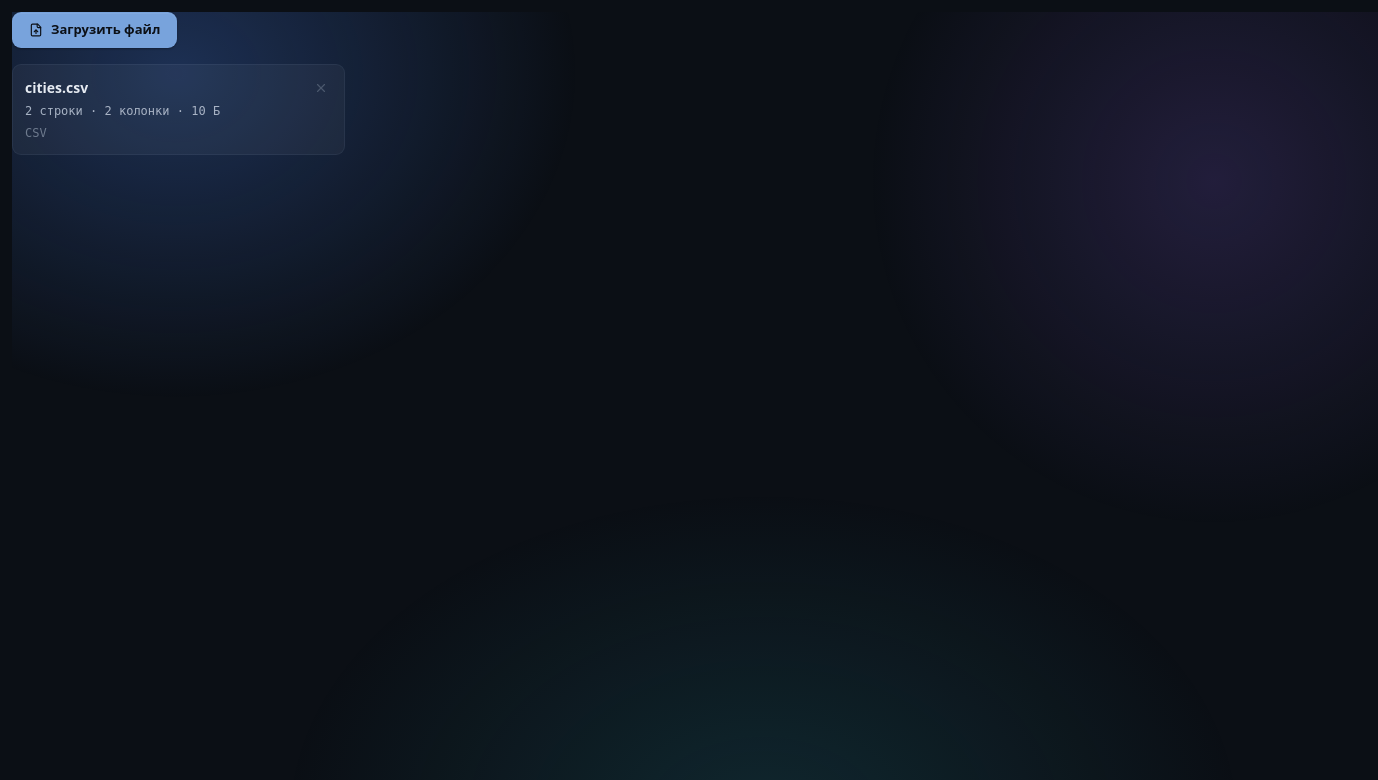
Test: загрузка файлов › крестик удаляет датасет после подтверждения
The image size is (1378, 780).
Click the button named "Удалить cities.csv".
click(320, 88)  # box [306,74,334,102]
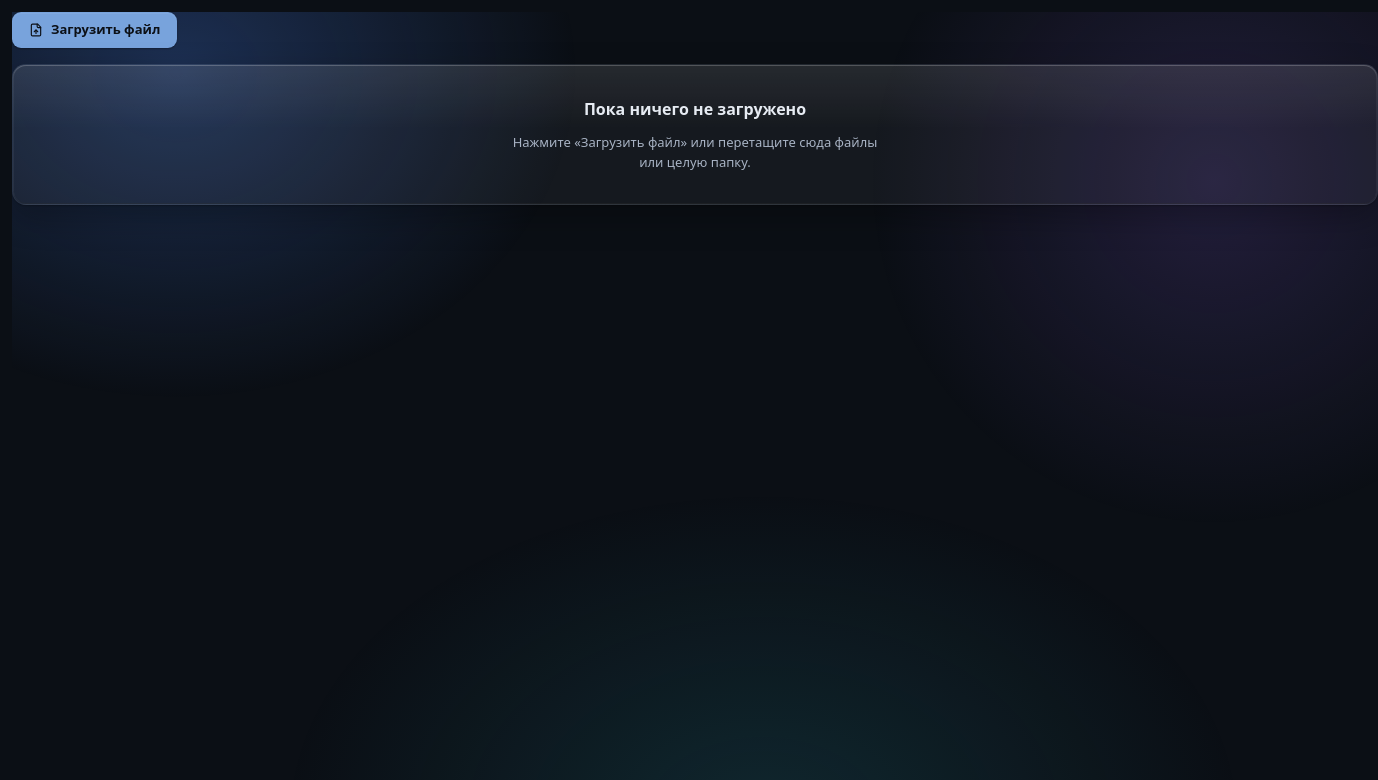
Now the button "cities.csv" is gone
